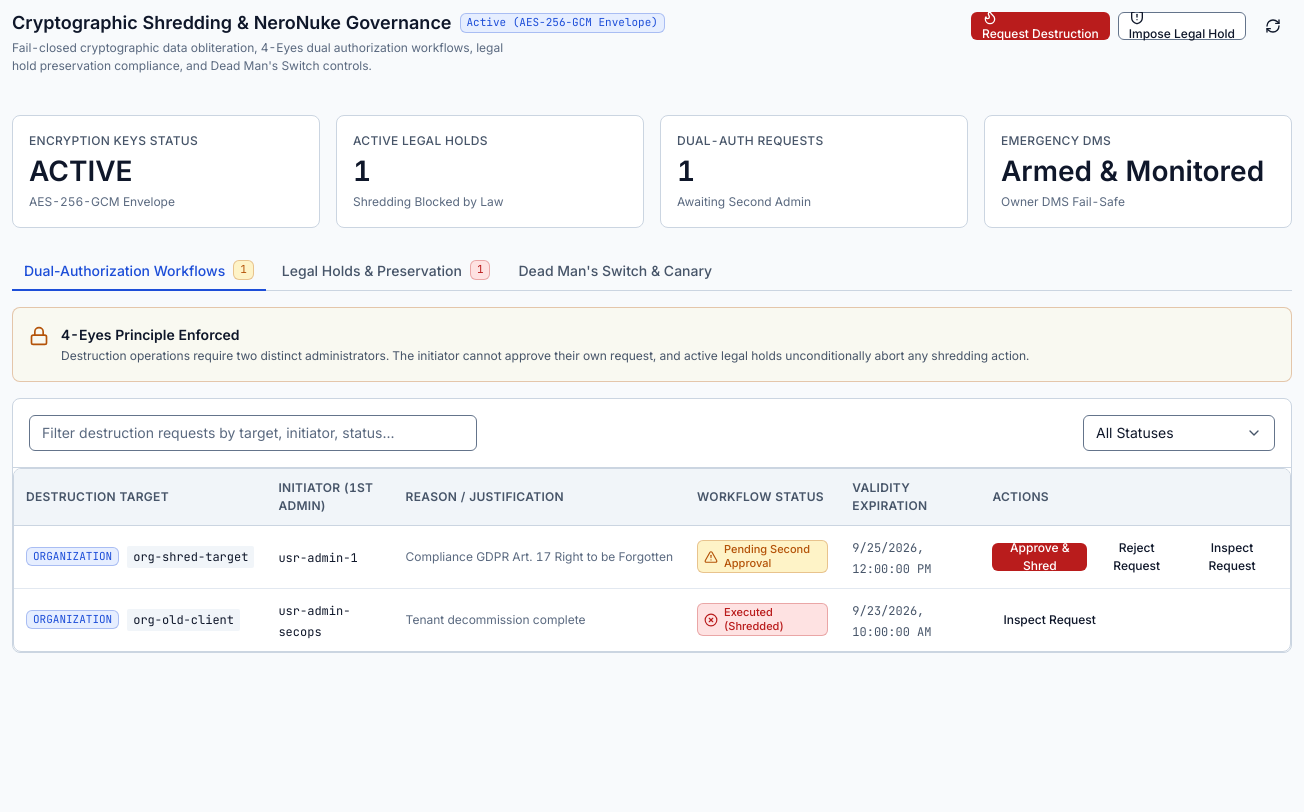
Test: WP-409: NukeRoute (NeroNuke v2 Dual-Auth & Legal Hold UI) › 6. Dead Man's Switch & Warrant Canary tab interactions and DMS heartbeat reset
Note: Switch to DMS & Canary tab
Click the tab "Dead Man's Switch & Canary" at (615, 271), box [506,252,724,290]
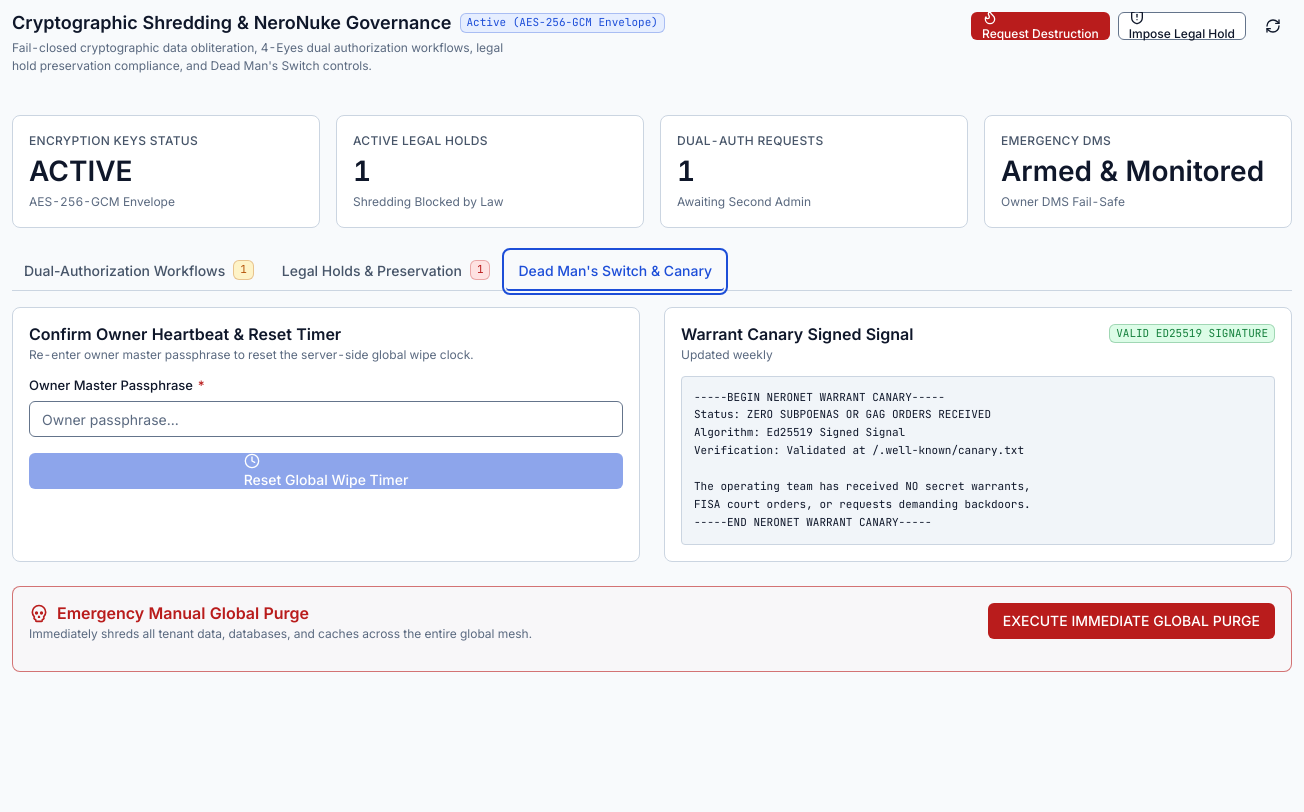
Now the heading "Warrant Canary Signed Signal" is shown, box [681,324,913,344]
Now the text "VALID ED25519 SIGNATURE" is shown, box [1109,324,1275,343]
Note: Fill passphrase and submit heartbeat
Type "owner-secret-passphrase-2026" into the password field with placeholder "Owner passphrase..." at (326, 419), box [29,401,623,437]
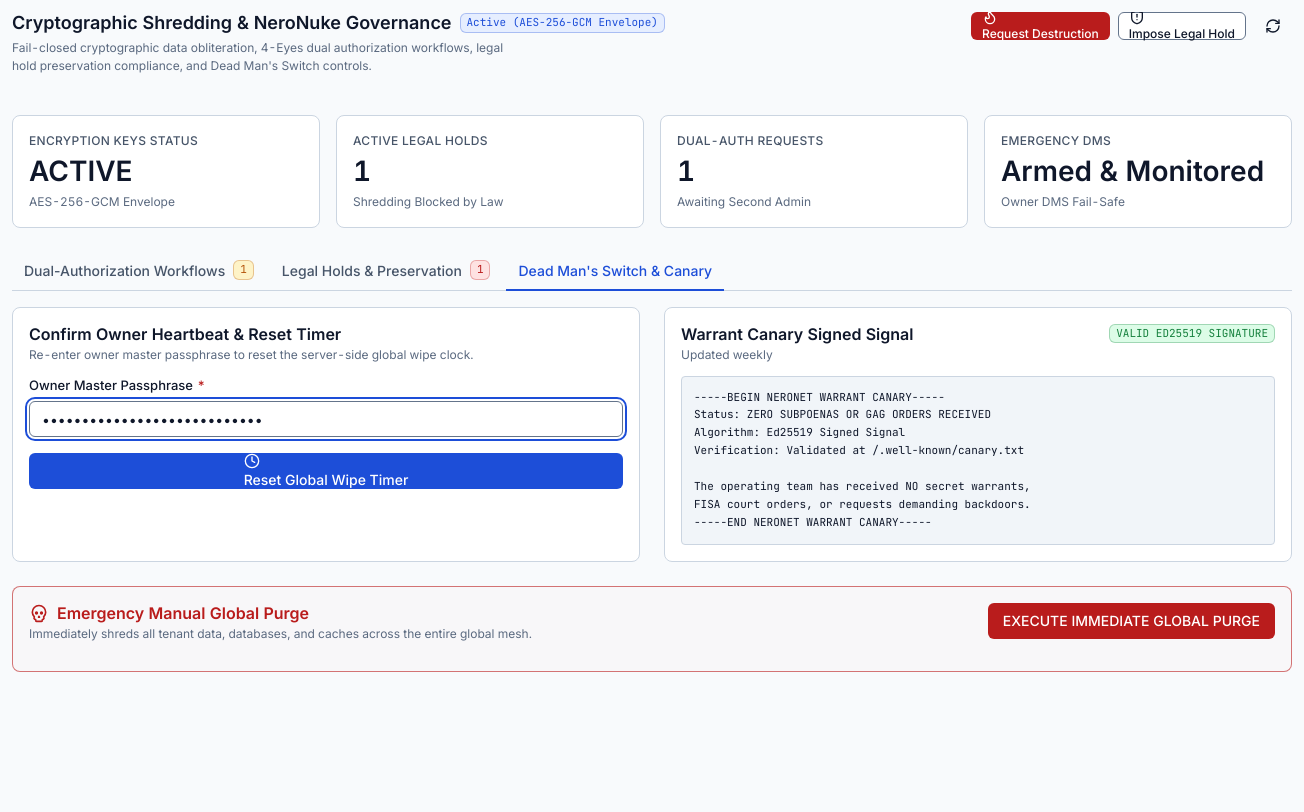
Click the button "Reset Global Wipe Timer" at (326, 471), box [29,453,623,489]
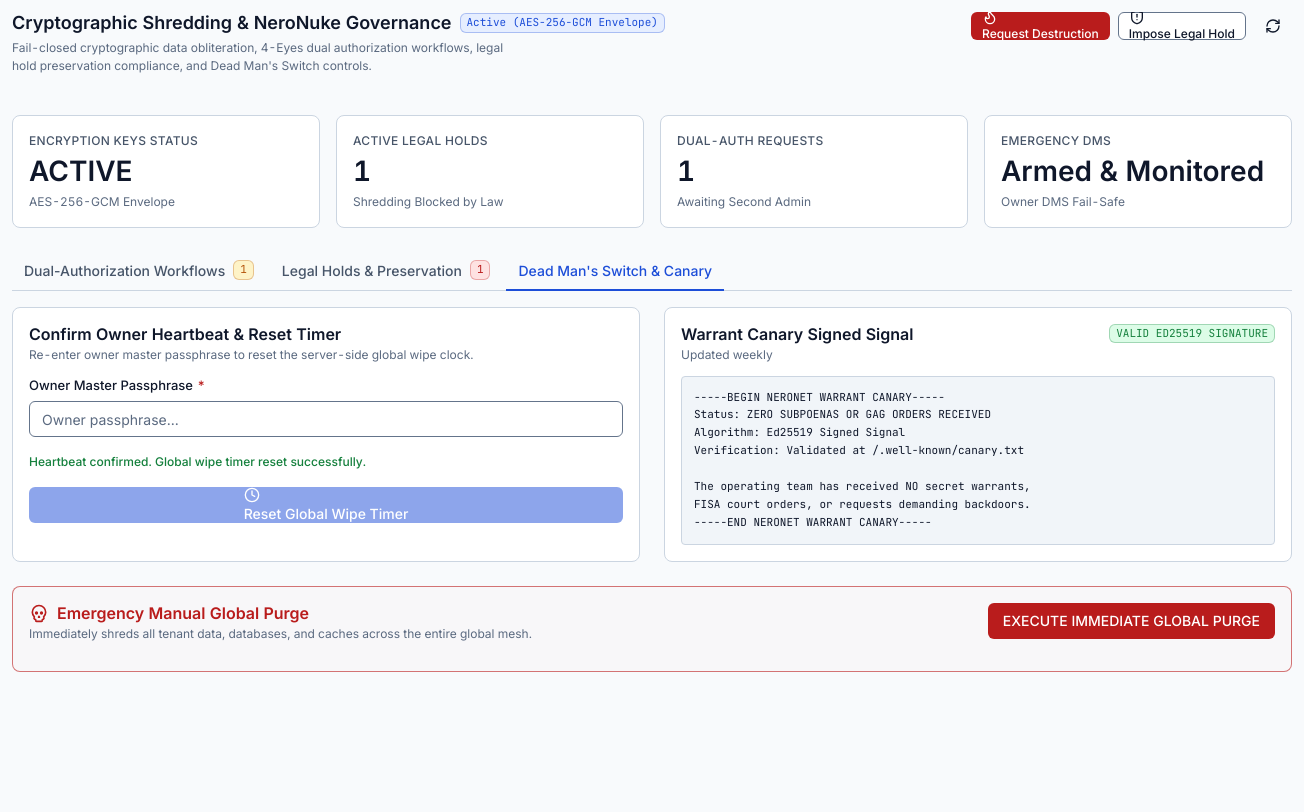
Now the text "Heartbeat confirmed. Global wipe timer reset successfully." is shown, box [29,454,366,469]
